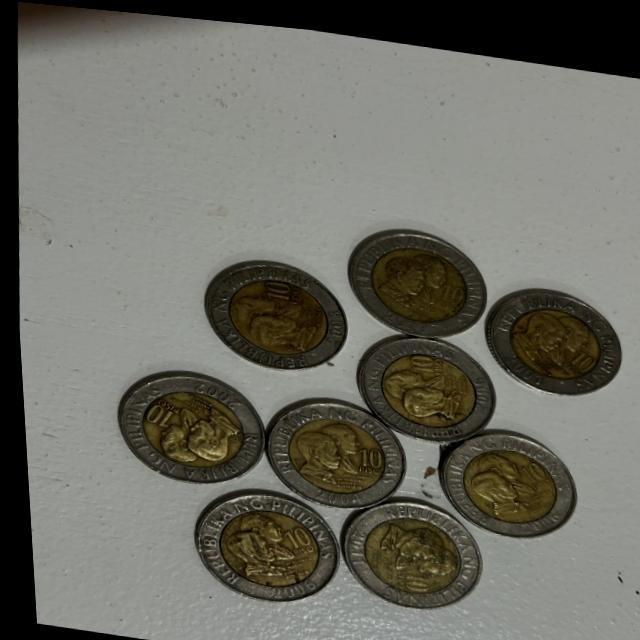10_Old_Front: (129, 384, 185, 431), (244, 267, 302, 304), (349, 434, 391, 477), (385, 554, 433, 585), (274, 515, 313, 552), (425, 269, 465, 304), (400, 338, 444, 369), (514, 446, 549, 480), (558, 336, 594, 367)
